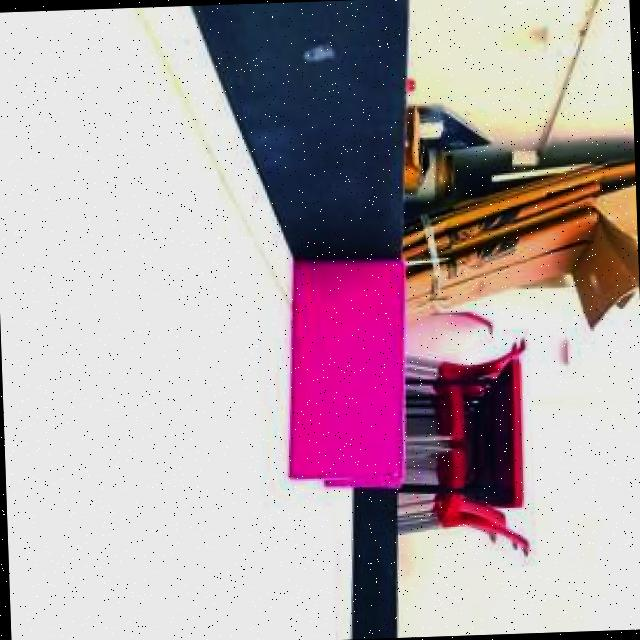xparking: (280, 254, 409, 496)
